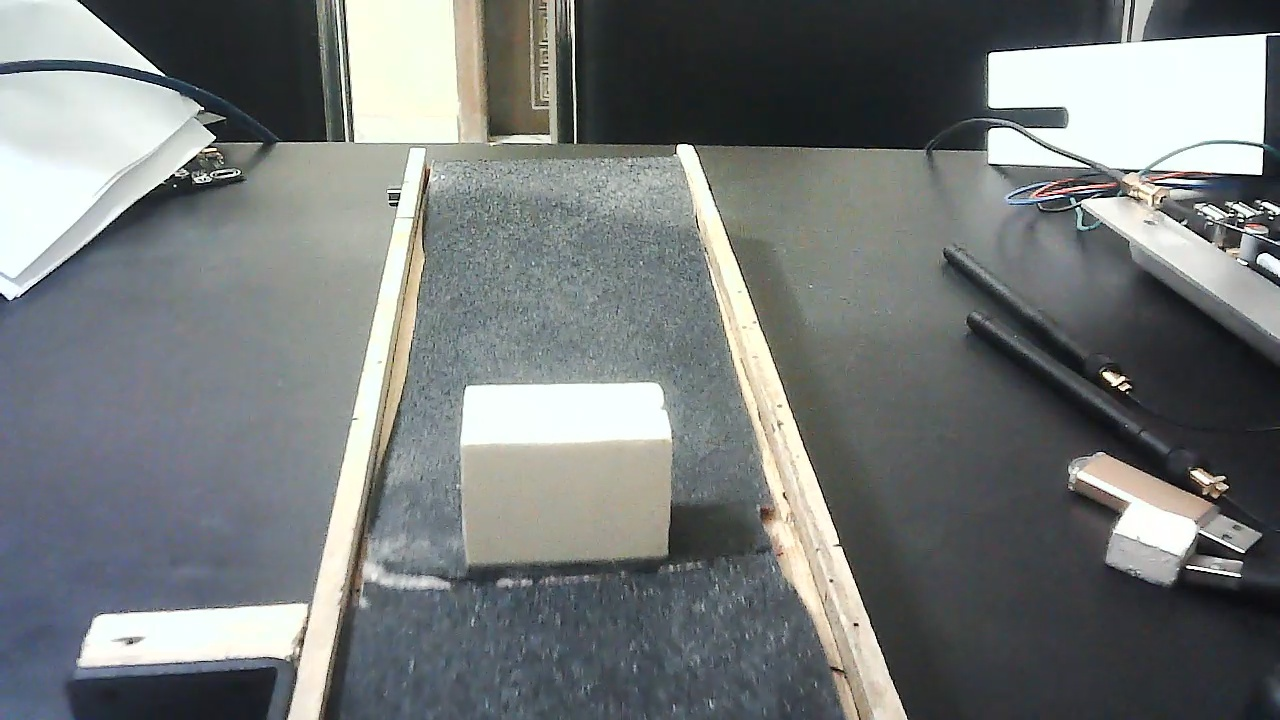BIG: (462, 369, 671, 578)
